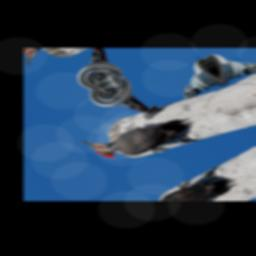Woodpecker: (79, 100, 205, 176)
